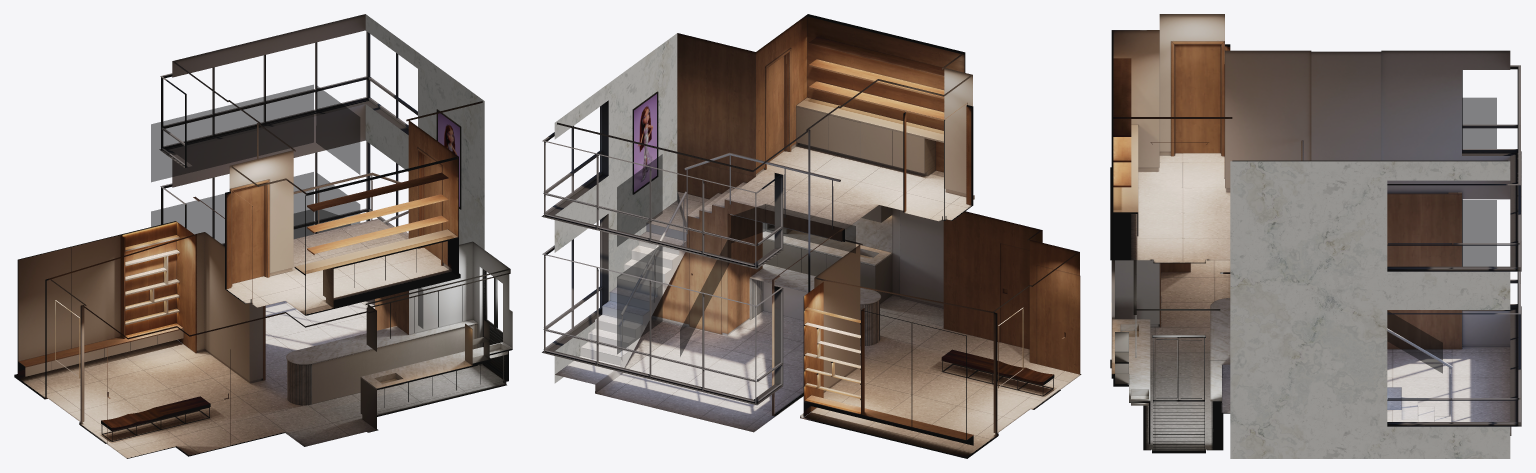
The model's file is environment.glb.
3 renders of one model, left to right at view 1: azimuth 30°, elevation 25°; view 2: azimuth 150°, elevation 25°; view 3: azimuth 270°, elevation 25°, orthographic. The views are drawn at different scales.
Parts seen in each view (by area): view 1: Box029_0, Box034_1, Box037_2; view 2: Box029_0, Box034_1, Box037_2; view 3: Box029_0, Box034_1, Box037_2.
Boxes of the visible parts, bbox=[...] form: Box029_0: bbox=[14, 14, 512, 458]; Box034_1: bbox=[151, 84, 423, 328]; Box037_2: bbox=[293, 209, 350, 238]; Box029_0: bbox=[541, 14, 1081, 458]; Box034_1: bbox=[617, 154, 662, 354]; Box037_2: bbox=[680, 204, 855, 356]; Box029_0: bbox=[1110, 14, 1521, 458]; Box034_1: bbox=[1211, 97, 1496, 360]; Box037_2: bbox=[1387, 310, 1442, 373].
Size of the model in its own units: 11.07 by 6.98 by 8.73.
5 materials, 3 textured.
